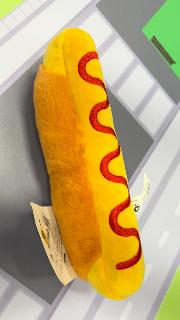hotdog: (32, 27, 146, 301)
